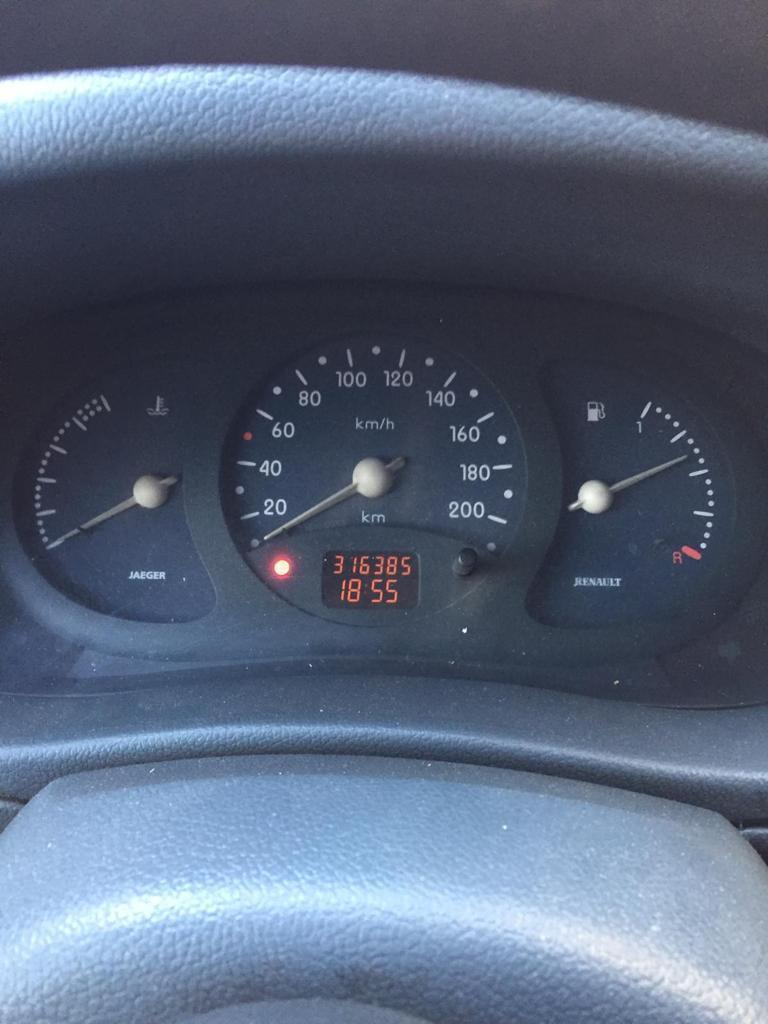1: (339, 579, 345, 601), (351, 556, 357, 573)
3: (332, 555, 344, 574), (373, 556, 384, 574)
5: (384, 578, 398, 603), (370, 578, 383, 602), (400, 556, 411, 575)
6: (358, 555, 370, 574)
8: (347, 578, 361, 602), (386, 556, 397, 575)
odometer: (318, 548, 420, 611)
